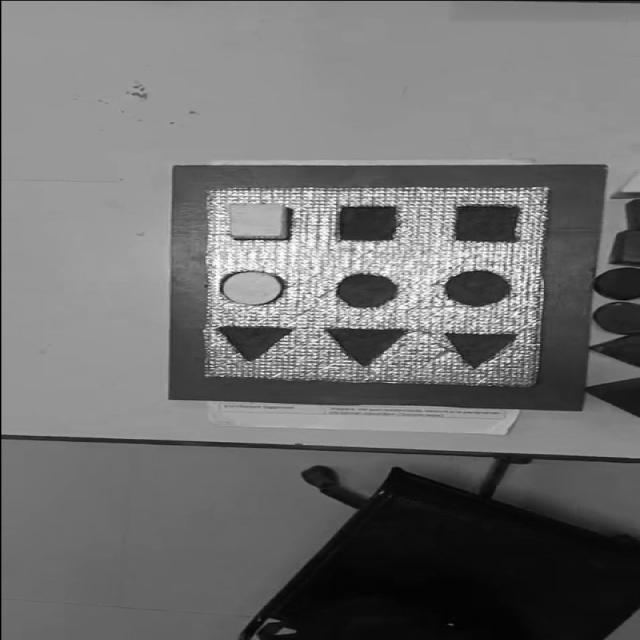bcircle: (592, 266, 640, 302)
btriangle: (588, 332, 640, 363)
mtcircle: (443, 269, 512, 307), (334, 272, 401, 308)
mtcube: (452, 204, 521, 243), (337, 205, 400, 242)
mttriangle: (325, 325, 410, 368), (442, 330, 518, 370), (214, 324, 292, 362)
rcircle: (591, 300, 640, 335)
rcube: (605, 229, 640, 267)
rtriangle: (584, 375, 640, 419)
wb: (200, 185, 550, 385)
ycircle: (220, 270, 284, 306)
ycube: (227, 203, 289, 240)
ytriangle: (609, 164, 639, 199)
